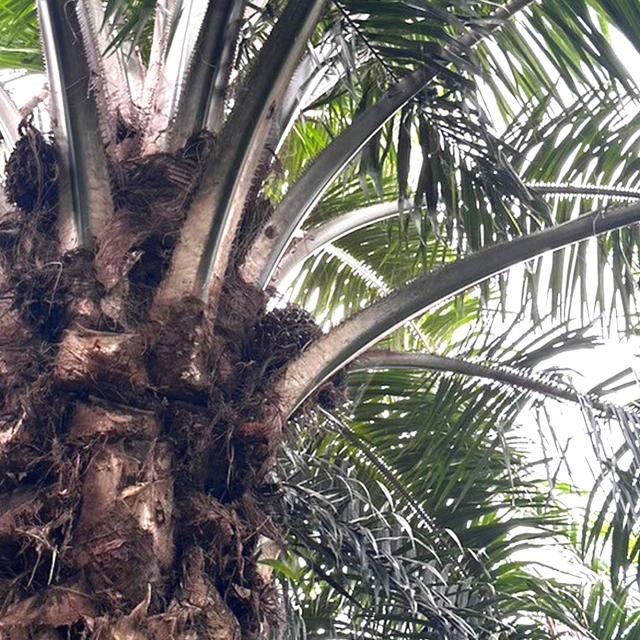almost: (248, 302, 347, 413)
